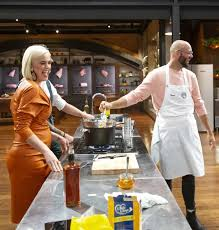Caution: (6, 39, 216, 174)
